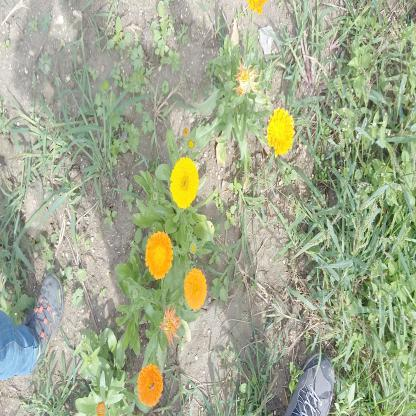marigold: (171, 157, 197, 208), (146, 231, 173, 280), (269, 108, 294, 154), (138, 366, 162, 407), (184, 270, 206, 310)
